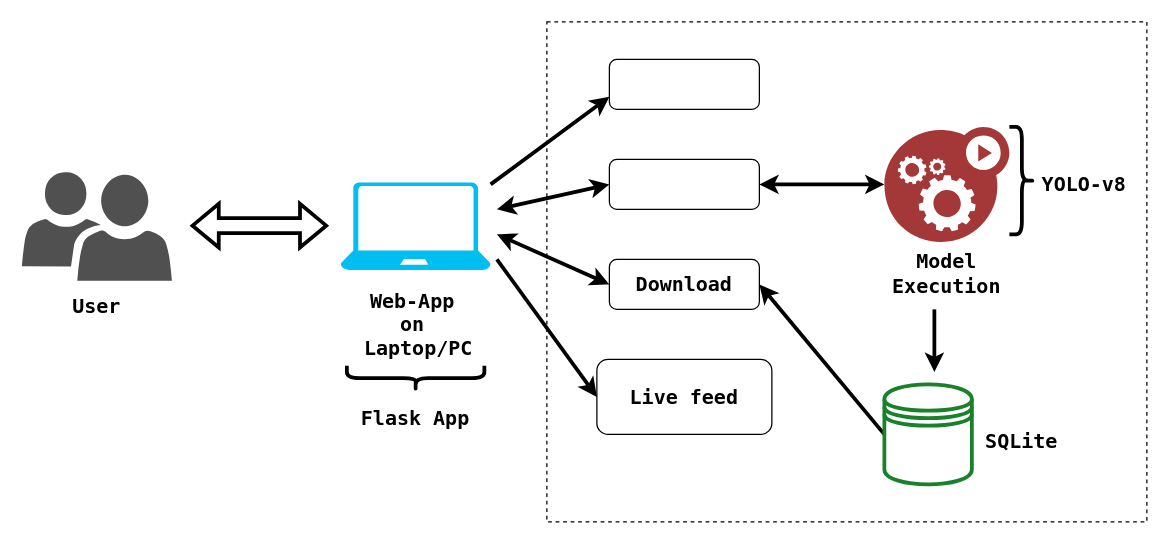
The diagram is 1169 pixels wide and 544 high, and some of its shapes have lost their labels. Here are the shapes that lost their labels. From the top down, the centre of each, then its label:
(x=683, y=83): Upload
(x=683, y=183): Test
